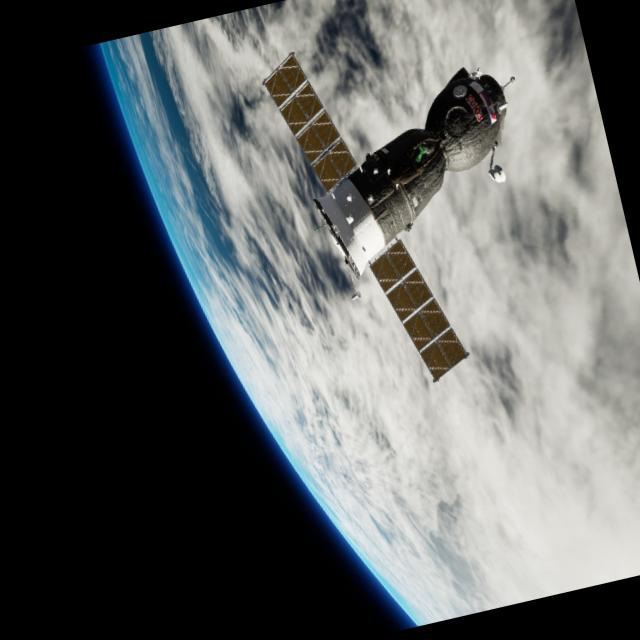Satellites revolving around earth: (253, 1, 578, 406)
